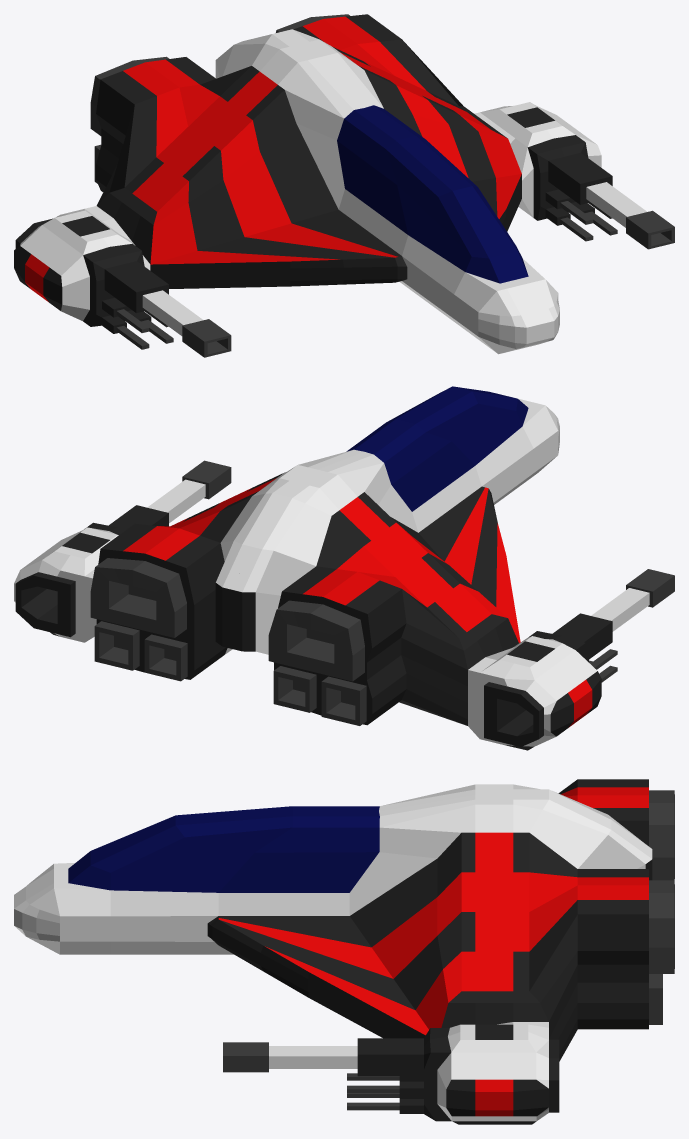
The model's file is ElCapitan.fbx.
3 views of the same model, one above another, from view 1: azimuth 30°, elevation 25°; view 2: azimuth 150°, elevation 25°; view 3: azimuth 270°, elevation 25° (orthographic). The views are drawn at different scales.
Visible parts, largest first — view 1: ElCapitan; view 2: ElCapitan; view 3: ElCapitan.
Boxes of the visible parts, bbox=[...] form: ElCapitan: bbox=[14, 14, 674, 357]; ElCapitan: bbox=[14, 386, 674, 750]; ElCapitan: bbox=[14, 779, 674, 1124].
Size of the model in its own units: 1743 by 1731 by 612.
